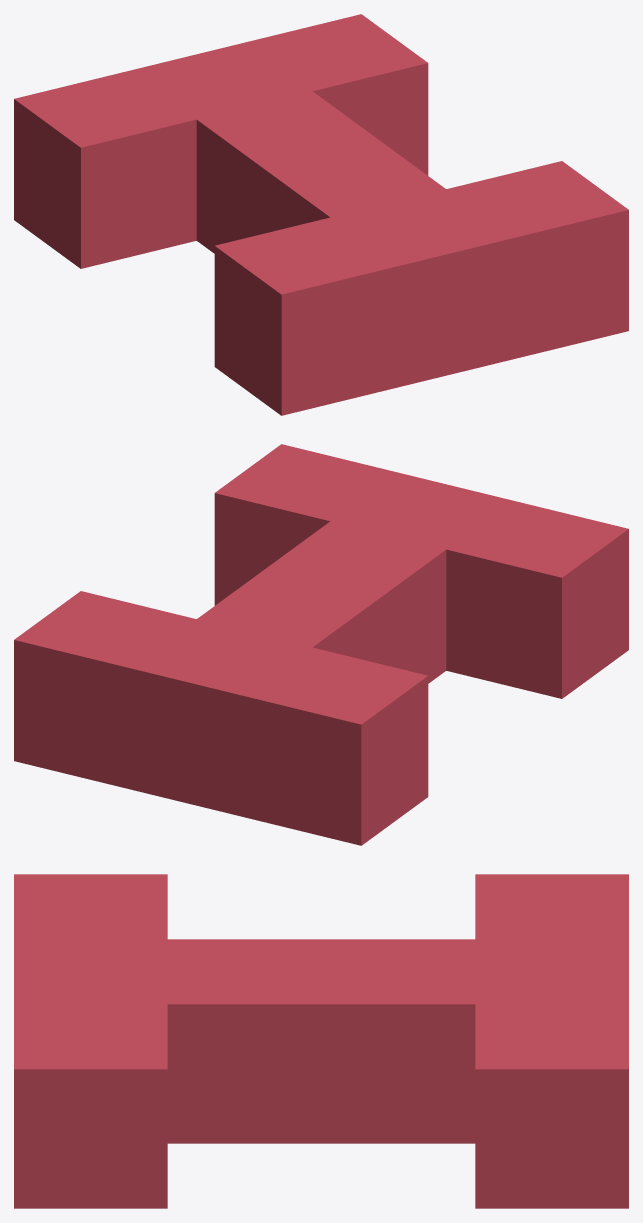
File: asset.glb
The picture shows the model from 3 angles, top to bottom: view 1: azimuth 30°, elevation 25°; view 2: azimuth 150°, elevation 25°; view 3: azimuth 270°, elevation 25°; orthographic projection. The views are drawn at different scales.
Visible parts, largest first — view 1: Mesh_Mesh_head_geo.001_lambert2SG.001; view 2: Mesh_Mesh_head_geo.001_lambert2SG.001; view 3: Mesh_Mesh_head_geo.001_lambert2SG.001.
Part boxes in pixels (x1=…): Mesh_Mesh_head_geo.001_lambert2SG.001: x1=14, y1=14, x2=628, y2=415; Mesh_Mesh_head_geo.001_lambert2SG.001: x1=14, y1=444, x2=628, y2=845; Mesh_Mesh_head_geo.001_lambert2SG.001: x1=14, y1=874, x2=628, y2=1208.
Bounding box in the file's own units: 30 × 10 × 40.
